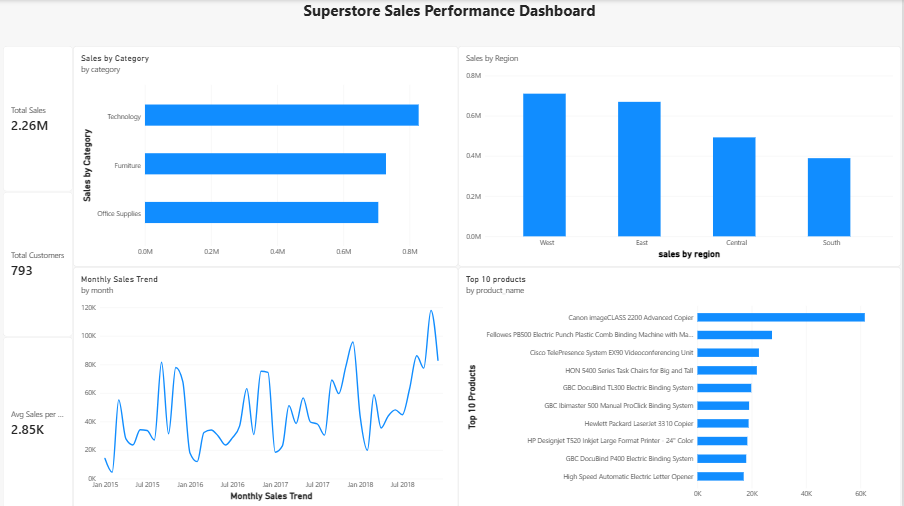

The page's visual inventory and layout, read from the dashboard file:
{"tool":"powerbi","page":{"name":"Page 1","canvas":[1920,1080],"ordinal":0},"visuals":[{"type":"cardVisual","fields":{"Data":["category_sales.Total Sales"]},"box":[10.1,98.3,148.7,309.9],"z":0},{"type":"cardVisual","fields":{"Data":["category_sales.Total Customers"]},"box":[10.1,408.2,148.7,307.4],"z":1000},{"type":"cardVisual","fields":{"Data":["category_sales.Avg Sales per Customer"]},"box":[10.1,715.6,148.7,365.4],"z":2000},{"type":"barChart","fields":{"Category":["category_sales.category"],"Y":["category_sales.Total Sales"]},"box":[158.7,98.3,818.9,468.7],"z":3000},{"type":"columnChart","fields":{"Category":["region_sales.region"],"Y":["Sum(region_sales.total_sales)"]},"box":[977.6,98.3,942.4,468.7],"z":4000},{"type":"lineChart","fields":{"Category":["monthly_sales.month"],"Y":["Sum(monthly_sales.total_sales)"]},"box":[158.7,566.9,818.9,514],"z":5000},{"type":"barChart","fields":{"Category":["top_products.product_name"],"Y":["Sum(top_products.total_sales)"]},"box":[977.6,566.9,942.4,514],"z":6000},{"type":"textbox","box":[0,0,1920,98.3],"z":7000}]}

Visuals, with their boxes in screenshot pixels (x1, y1, x2, y2), scaled from the page's 1920x1080 canvas onto the 904x506 screenshot:
cardVisual - category_sales.Total Sales: <bbox>5, 46, 75, 191</bbox>
cardVisual - category_sales.Total Customers: <bbox>5, 191, 75, 335</bbox>
cardVisual - category_sales.Avg Sales per Customer: <bbox>5, 335, 75, 505</bbox>
barChart - category_sales.category x category_sales.Total Sales: <bbox>75, 46, 460, 266</bbox>
columnChart - region_sales.region x Sum(region_sales.total_sales): <bbox>460, 46, 903, 266</bbox>
lineChart - monthly_sales.month x Sum(monthly_sales.total_sales): <bbox>75, 266, 460, 505</bbox>
barChart - top_products.product_name x Sum(top_products.total_sales): <bbox>460, 266, 903, 505</bbox>
textbox: <bbox>0, 0, 903, 46</bbox>
